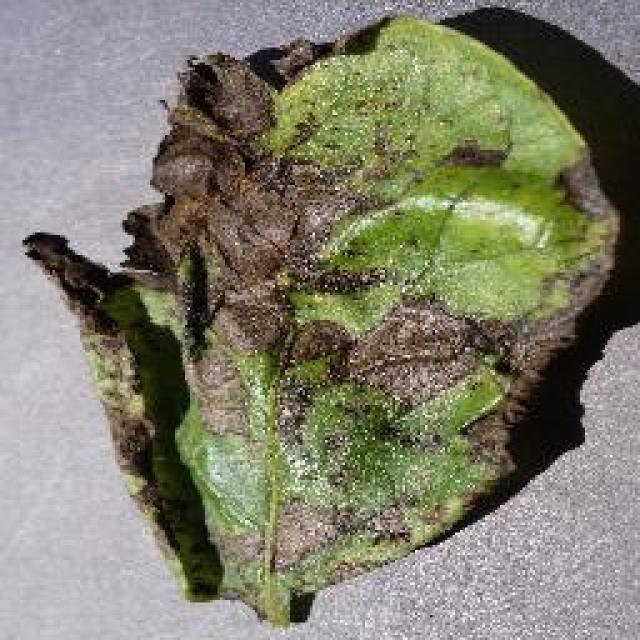Potato___Early_blight: (70, 0, 575, 540)
